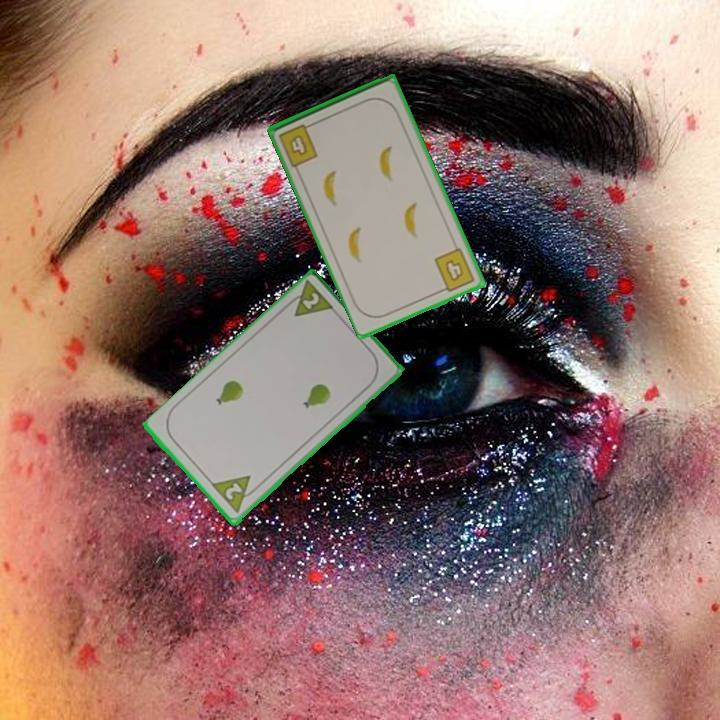2p: (281, 278, 338, 320), (221, 479, 245, 504)
4b: (431, 244, 478, 296), (275, 119, 321, 170)
